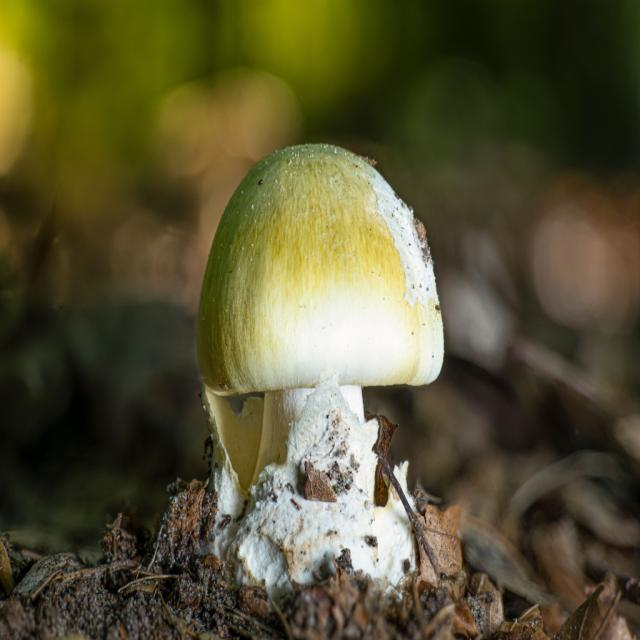death-cap: (197, 144, 444, 601)
